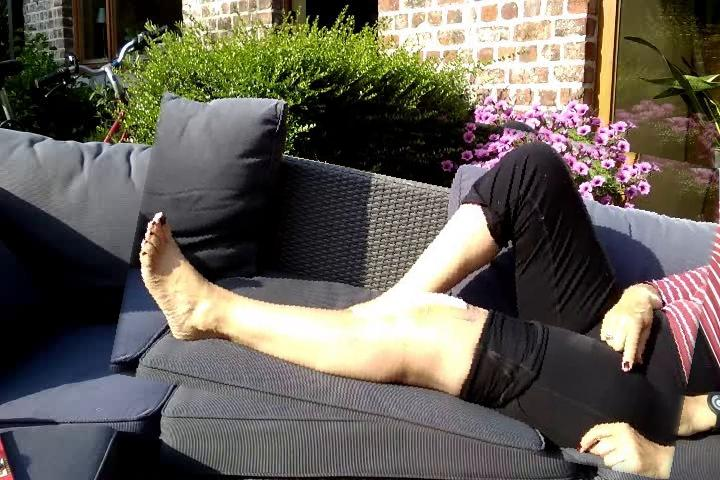lowerbody: (122, 89, 717, 457)
